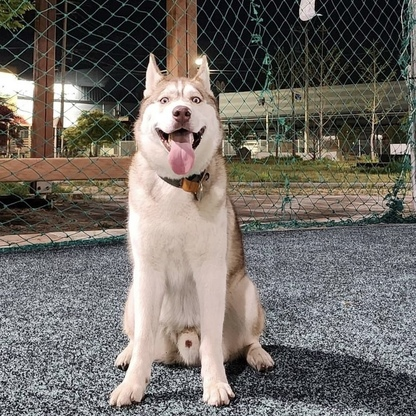husky: (99, 47, 278, 414)
